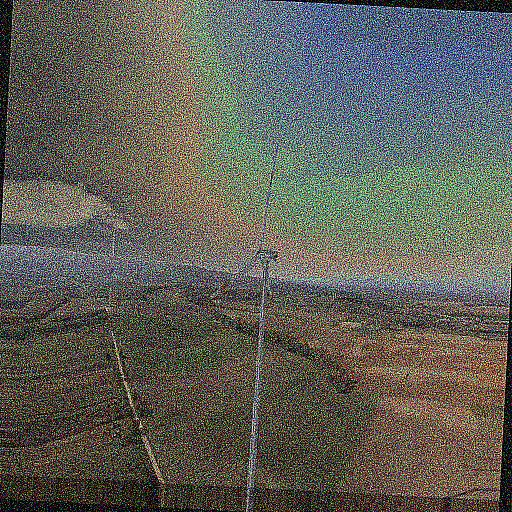wind turbine: (230, 138, 283, 488)
